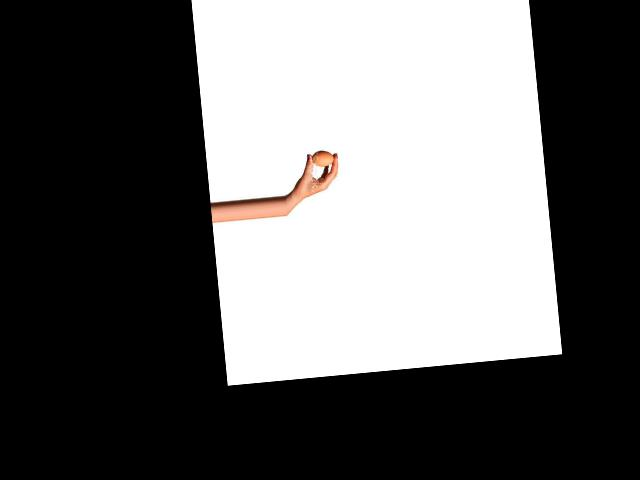egg: (311, 150, 334, 167)
